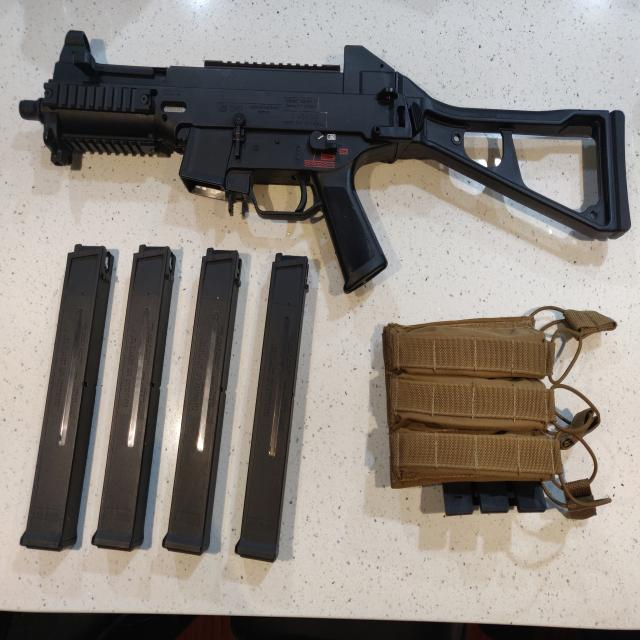SMG: (20, 31, 633, 293)
